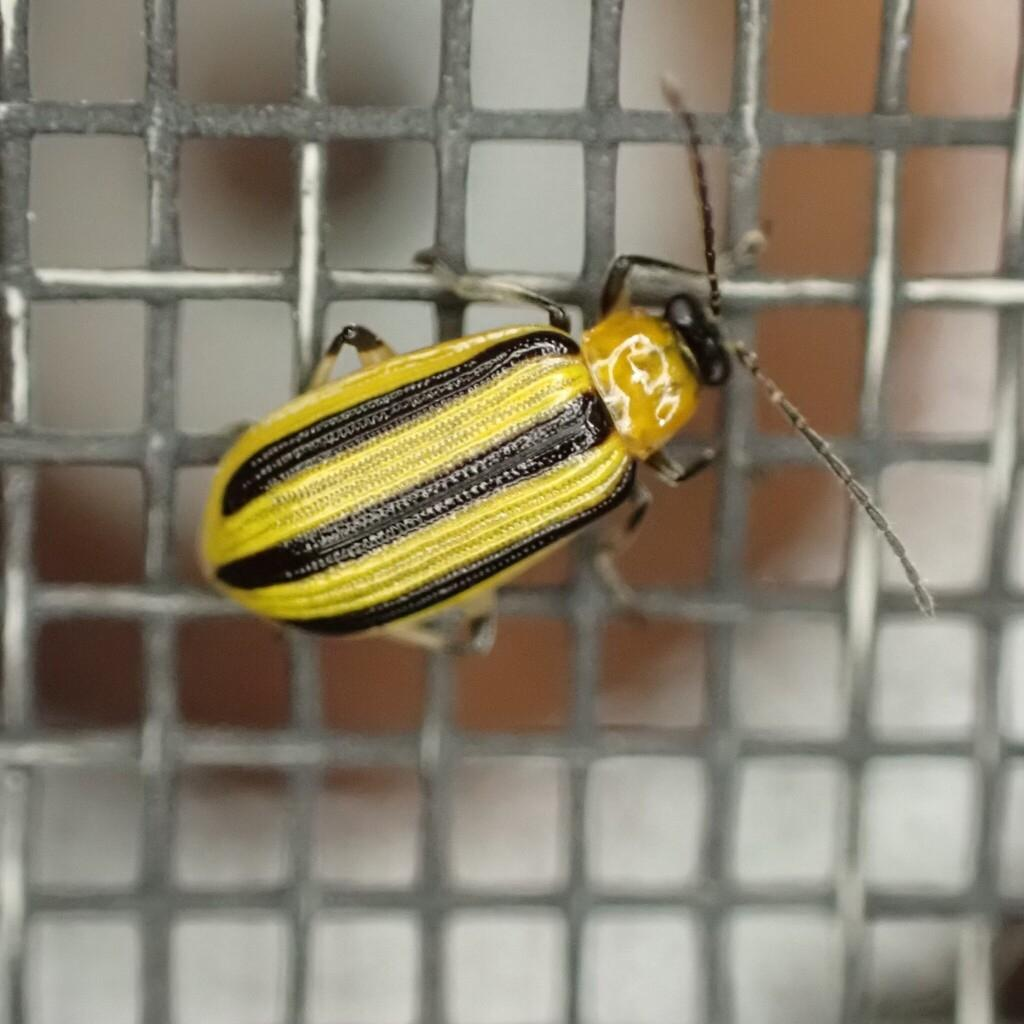potato_beetle: (74, 0, 1020, 771)
